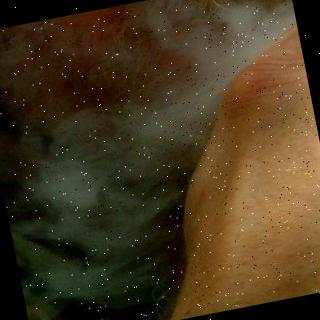smoke: (0, 136, 169, 320), (132, 0, 290, 79)
